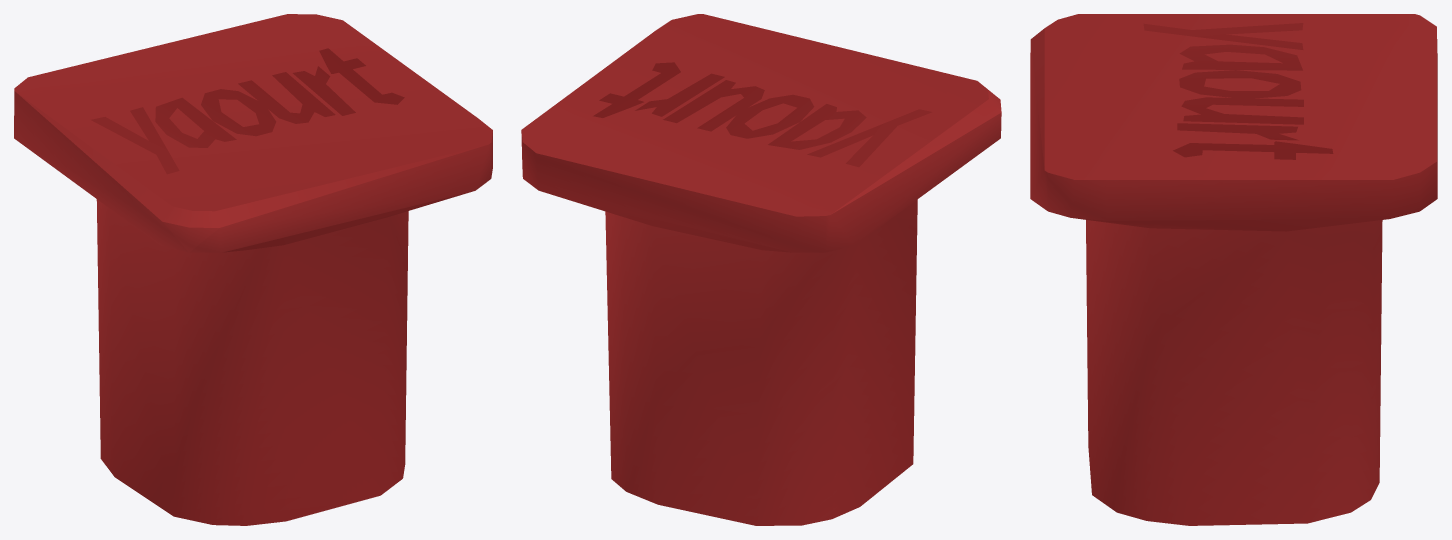
File: yaourt_002.glb
The picture shows the model from 3 angles, left to right: view 1: azimuth 30°, elevation 25°; view 2: azimuth 150°, elevation 25°; view 3: azimuth 270°, elevation 25°; orthographic projection. The views are drawn at different scales.
Parts seen in each view (by area): view 1: yaourt.002; view 2: yaourt.002; view 3: yaourt.002.
Part boxes in pixels (x1,y1,x2,y2): yaourt.002: (14,14,492,525); yaourt.002: (521,14,1001,525); yaourt.002: (1030,14,1437,525).
Size of the model in its own units: 0.3297 by 0.3314 by 0.3273.
1 material, 1 textured.
